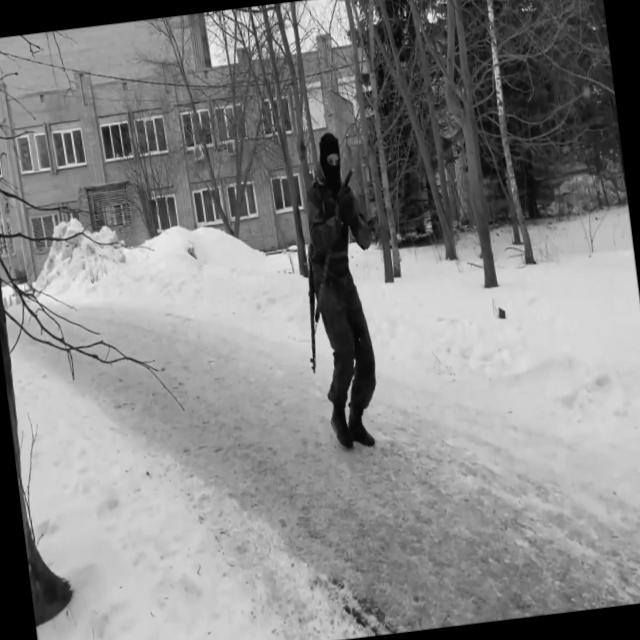gun: (295, 243, 346, 375), (334, 168, 357, 205)
person with a gun: (282, 128, 398, 454)
